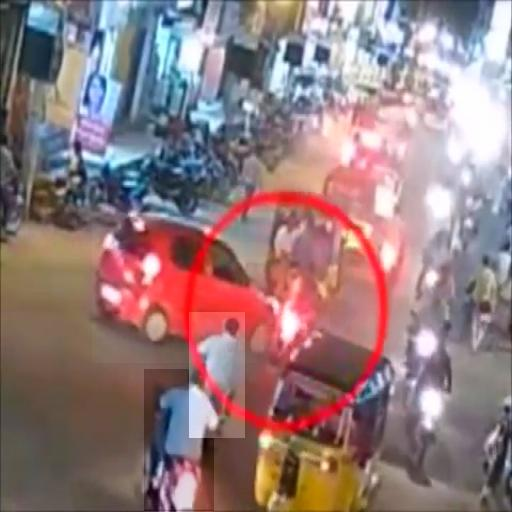小汽车: (257, 329, 386, 512), (268, 190, 343, 311)
小汽车撞自行车: (92, 212, 330, 363)
自行车: (144, 370, 214, 512), (189, 312, 245, 438)
